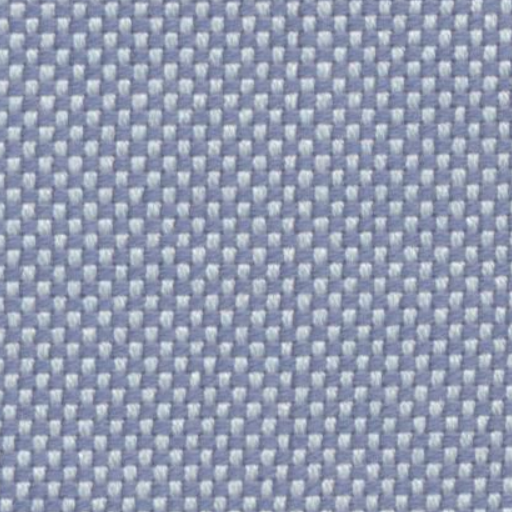TuoSha: (256, 15, 313, 494)
